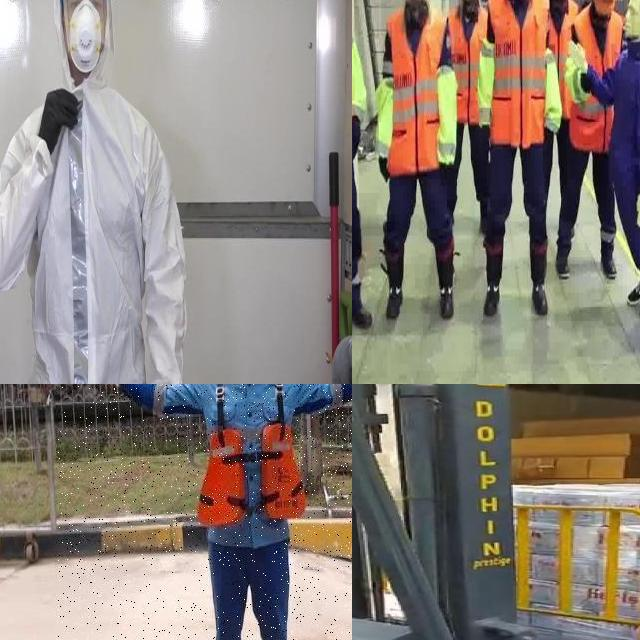BOOTS: (352, 268, 381, 336), (591, 239, 624, 285), (382, 278, 413, 326), (436, 266, 459, 321), (482, 263, 505, 317), (554, 236, 576, 281), (531, 269, 549, 318), (619, 266, 640, 304)
GLOVE: (38, 88, 80, 156), (352, 114, 362, 156), (380, 155, 393, 183)
HELMET: (591, 0, 617, 19)
VEST: (194, 384, 314, 542), (387, 8, 447, 177), (488, 0, 548, 147), (572, 4, 624, 154), (449, 0, 489, 122), (547, 0, 578, 118)
